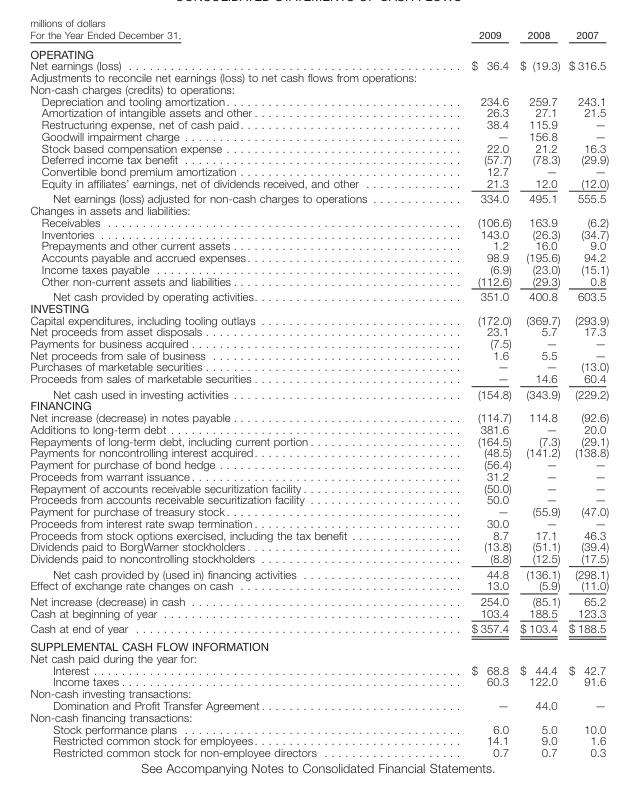table: (29, 28, 608, 758)
table column: (29, 28, 418, 758), (418, 28, 515, 758), (515, 28, 563, 758), (563, 28, 608, 758)
table column header: (29, 28, 608, 43)
table projected row header: (29, 43, 608, 59), (29, 637, 608, 651), (29, 70, 608, 82), (29, 82, 608, 94), (29, 203, 608, 215), (29, 301, 608, 313), (29, 399, 608, 411), (29, 651, 608, 663), (29, 710, 608, 722), (29, 687, 608, 698)
table row: (29, 620, 608, 637), (29, 43, 608, 59), (29, 28, 608, 43), (29, 176, 608, 190), (29, 287, 608, 301), (29, 385, 608, 399), (29, 565, 608, 579), (29, 592, 608, 606), (29, 606, 608, 620), (29, 637, 608, 651), (29, 190, 608, 203), (29, 274, 608, 287), (29, 372, 608, 385), (29, 552, 608, 565), (29, 579, 608, 592), (29, 745, 608, 758), (29, 70, 608, 82), (29, 82, 608, 94), (29, 94, 608, 106), (29, 117, 608, 129), (29, 129, 608, 141), (29, 141, 608, 153), (29, 164, 608, 176), (29, 203, 608, 215), (29, 215, 608, 227), (29, 227, 608, 239), (29, 250, 608, 262), (29, 262, 608, 274), (29, 301, 608, 313), (29, 313, 608, 325), (29, 336, 608, 348), (29, 348, 608, 360), (29, 360, 608, 372), (29, 399, 608, 411), (29, 422, 608, 434), (29, 434, 608, 446), (29, 446, 608, 458), (29, 469, 608, 481), (29, 481, 608, 493), (29, 493, 608, 505), (29, 516, 608, 528), (29, 528, 608, 540), (29, 540, 608, 552), (29, 651, 608, 663), (29, 663, 608, 675), (29, 675, 608, 687), (29, 698, 608, 710), (29, 710, 608, 722), (29, 722, 608, 734), (29, 59, 608, 70), (29, 106, 608, 117), (29, 153, 608, 164), (29, 239, 608, 250), (29, 325, 608, 336), (29, 411, 608, 422), (29, 458, 608, 469), (29, 505, 608, 516), (29, 687, 608, 698), (29, 734, 608, 745)
